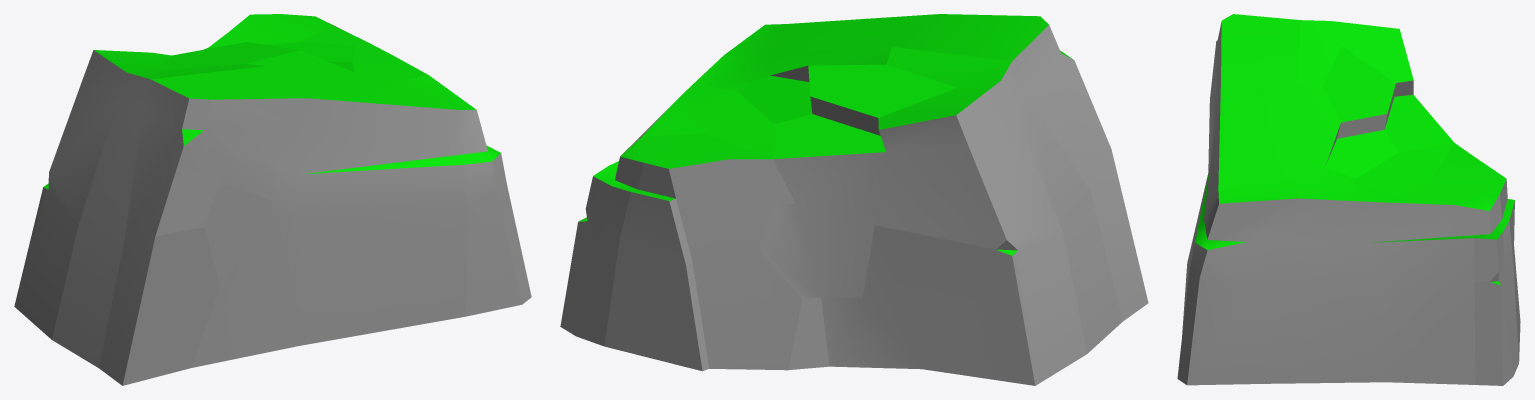
Rendered from rock_jungle_medium_C.fbx.
3 renders of one model, left to right at view 1: azimuth 30°, elevation 25°; view 2: azimuth 150°, elevation 25°; view 3: azimuth 270°, elevation 25°, orthographic. The views are drawn at different scales.
Visible parts, largest first — view 1: rock_jungle_medium_C; view 2: rock_jungle_medium_C; view 3: rock_jungle_medium_C.
Boxes of the visible parts, x1,y1,x2,y2 form: rock_jungle_medium_C: (14,14,531,385); rock_jungle_medium_C: (560,14,1148,385); rock_jungle_medium_C: (1177,14,1520,385).
Bounding box in the file's own units: 70.8 × 42.97 × 57.59.
